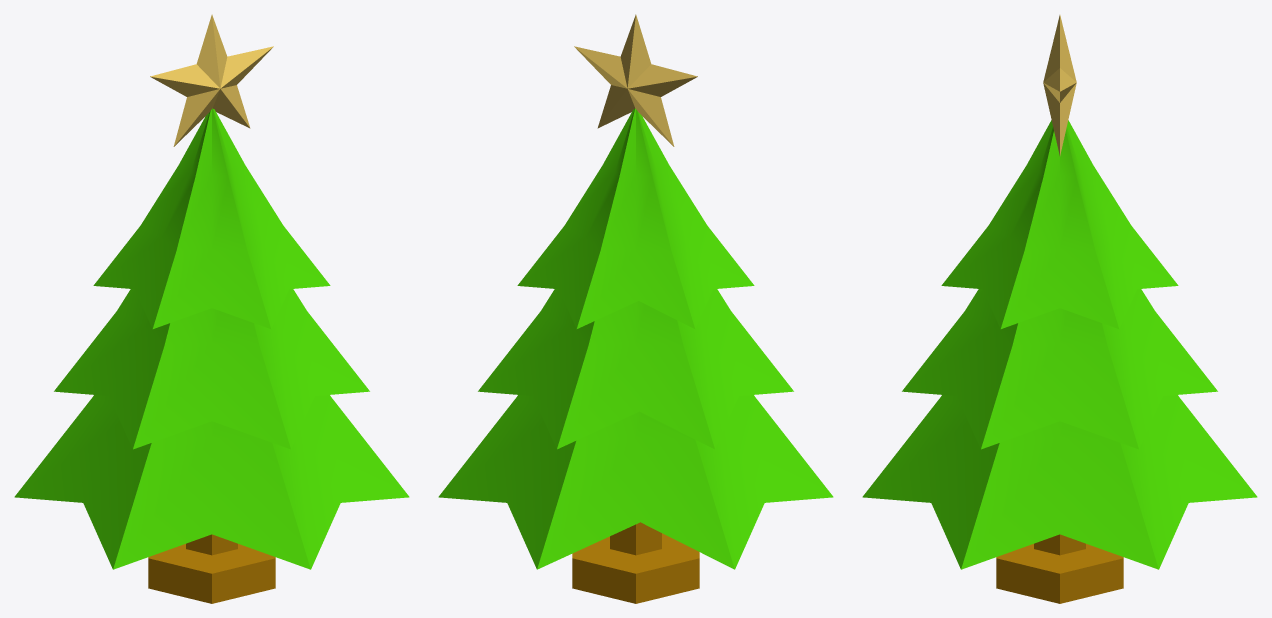
The model's file is tree.gltf.
The picture shows the model from 3 angles, left to right: view 1: azimuth 30°, elevation 25°; view 2: azimuth 150°, elevation 25°; view 3: azimuth 270°, elevation 25°; orthographic projection.
Parts seen in each view (by area): view 1: Cone 0, Cone 1, Cone 2, trunk, Star; view 2: Cone 0, Cone 1, Cone 2, trunk, Star; view 3: Cone 0, Cone 1, Cone 2, trunk, Star.
Boxes of the visible parts, bbox=[...] form: Cone 0: bbox=[14, 395, 409, 569]; Cone 1: bbox=[54, 289, 369, 449]; Cone 2: bbox=[93, 108, 330, 328]; trunk: bbox=[148, 534, 275, 603]; Star: bbox=[150, 14, 273, 146]; Cone 0: bbox=[438, 395, 833, 569]; Cone 1: bbox=[478, 289, 793, 449]; Cone 2: bbox=[517, 108, 754, 328]; trunk: bbox=[572, 522, 699, 603]; Star: bbox=[574, 14, 697, 146]; Cone 0: bbox=[862, 395, 1257, 569]; Cone 1: bbox=[902, 289, 1217, 449]; Cone 2: bbox=[941, 120, 1178, 328]; trunk: bbox=[996, 534, 1123, 603]; Star: bbox=[1043, 15, 1076, 155].
Bounding box in the file's own units: 206 × 370 × 238.
